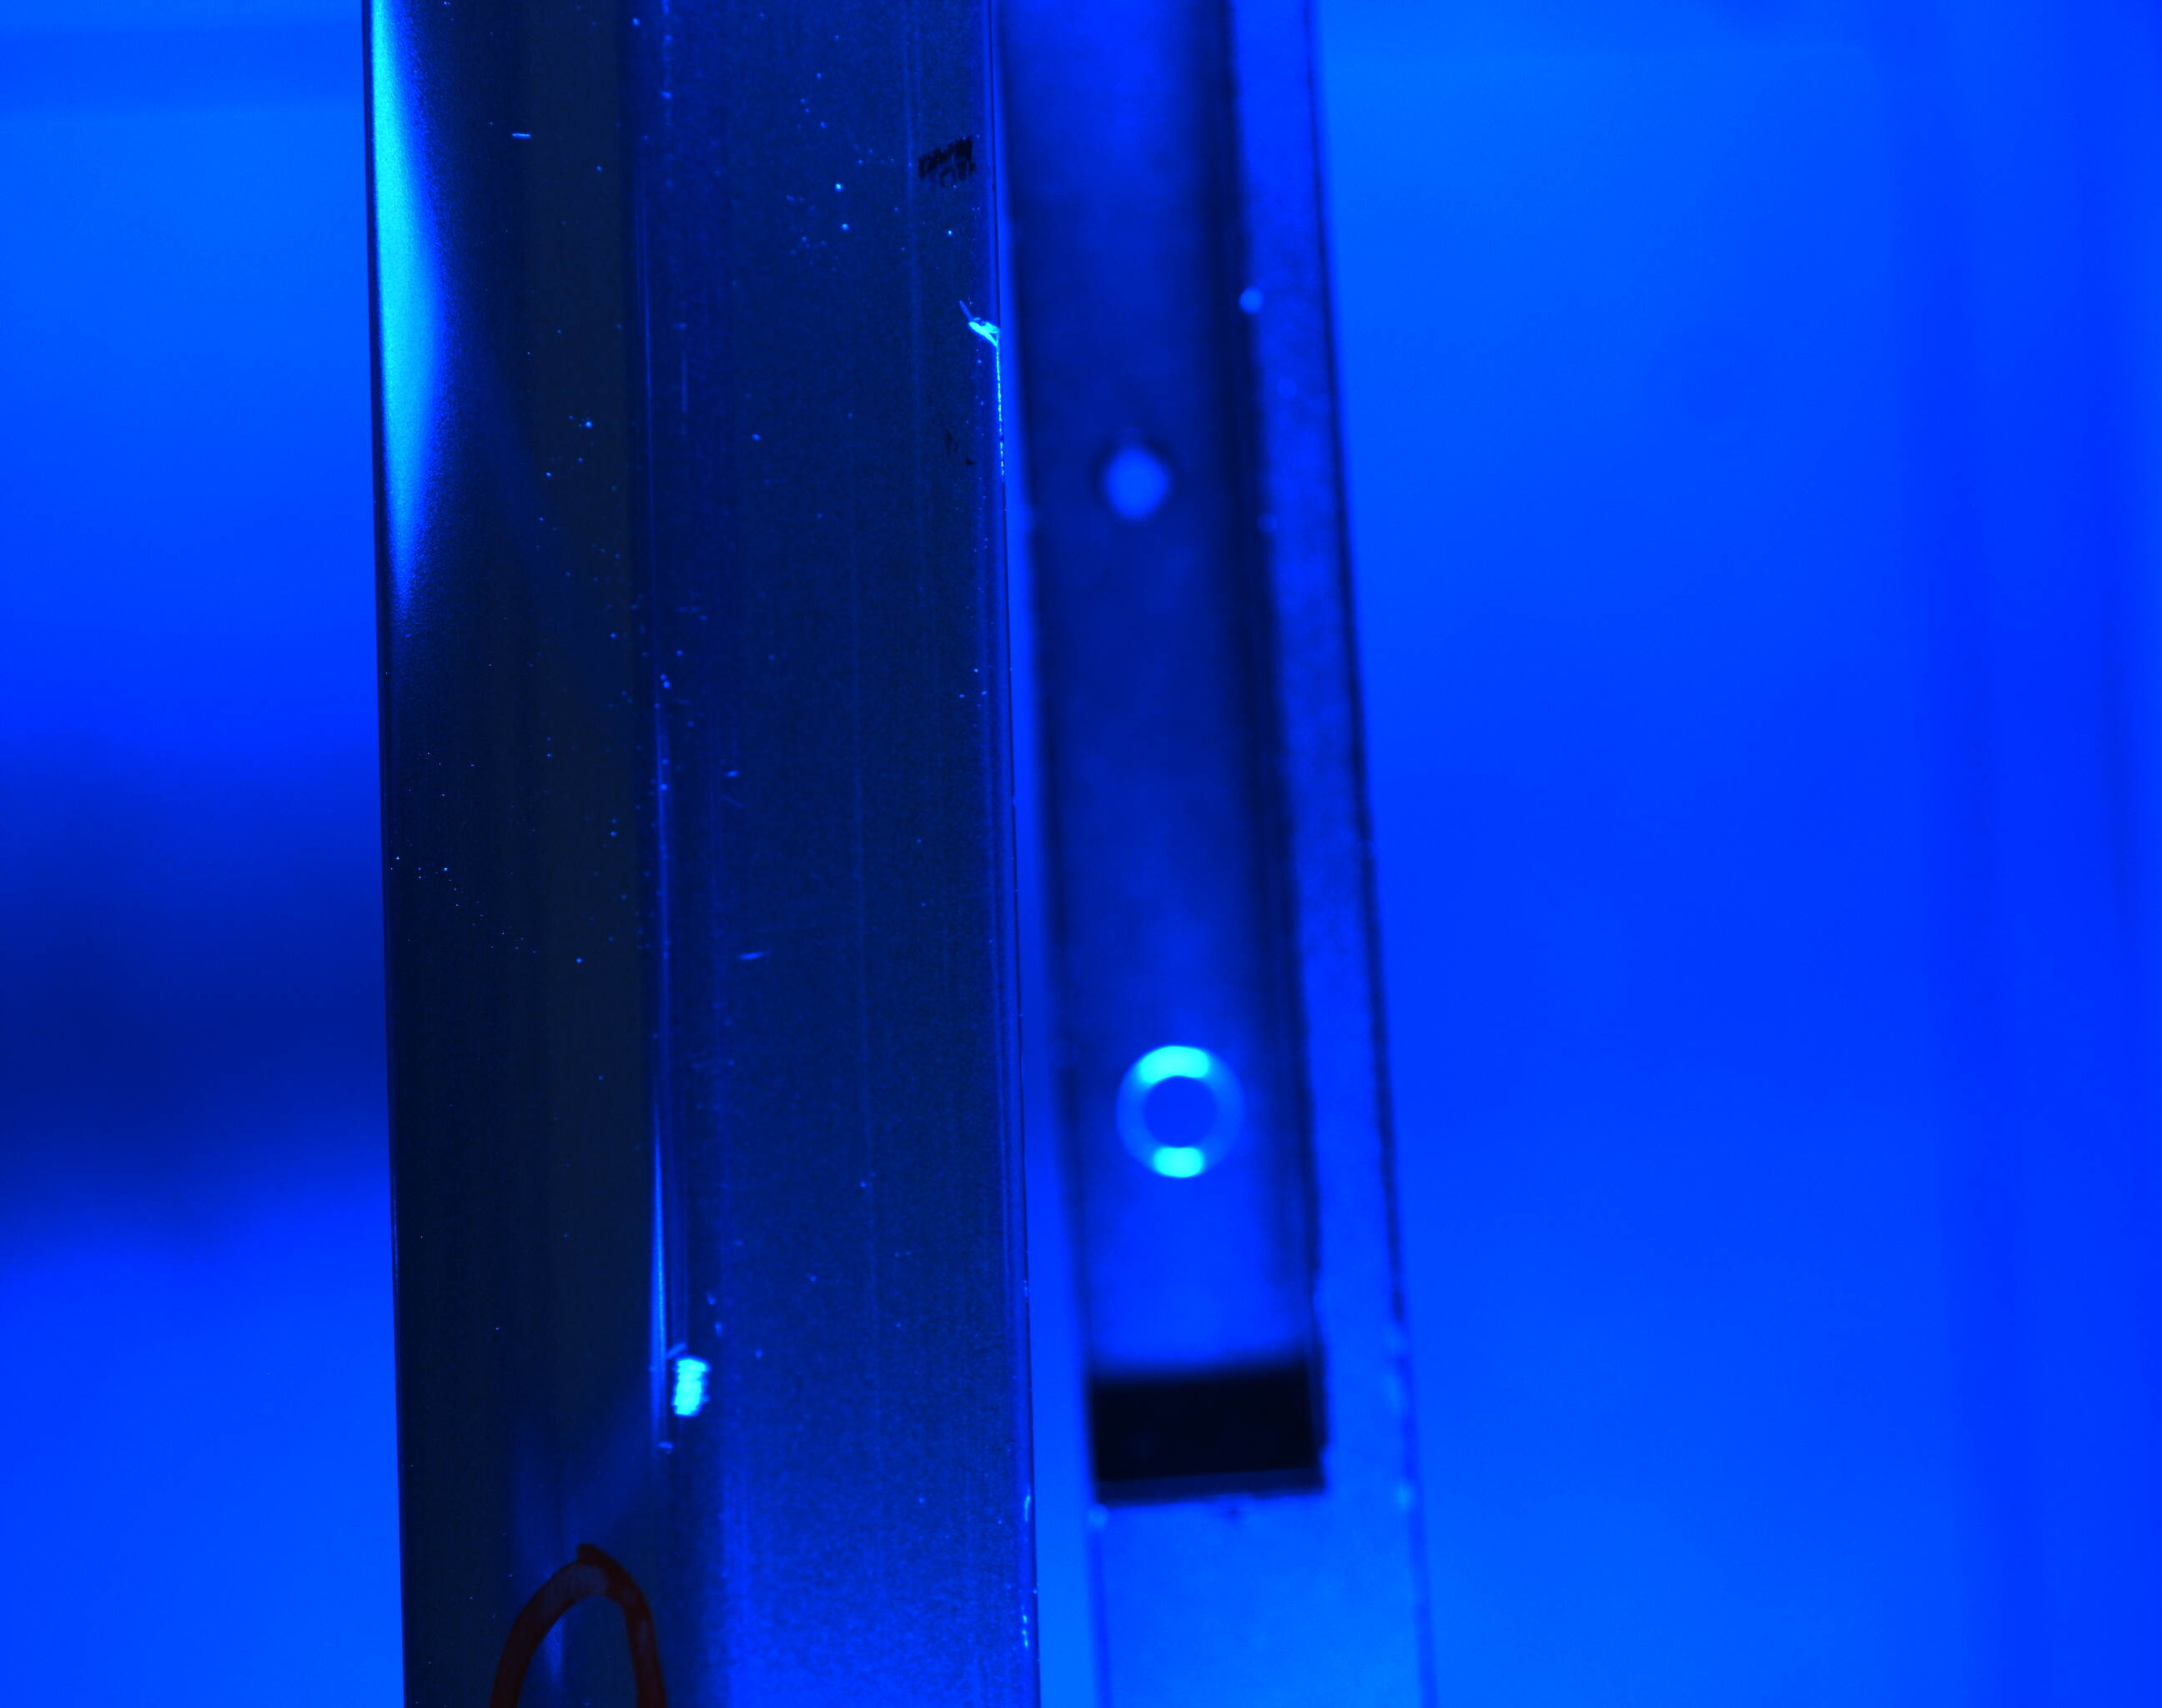NG: (651, 1325, 737, 1455), (944, 291, 1011, 456), (556, 383, 609, 476), (1014, 1490, 1042, 1654), (497, 112, 551, 177)
